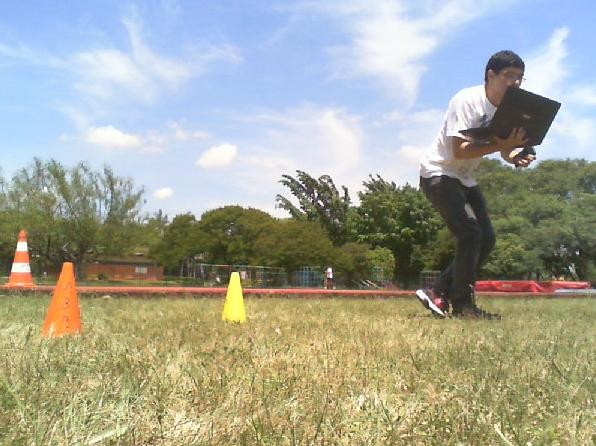0 cone: (41, 263, 81, 337), (4, 231, 35, 287), (221, 272, 247, 323)
